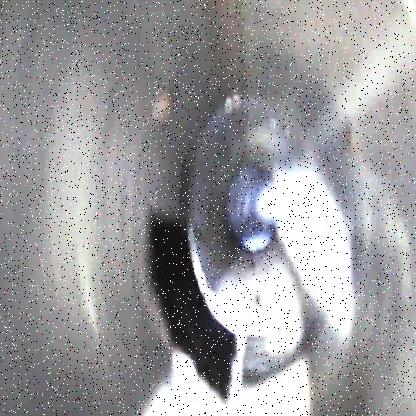Crack2: (131, 208, 243, 404)
